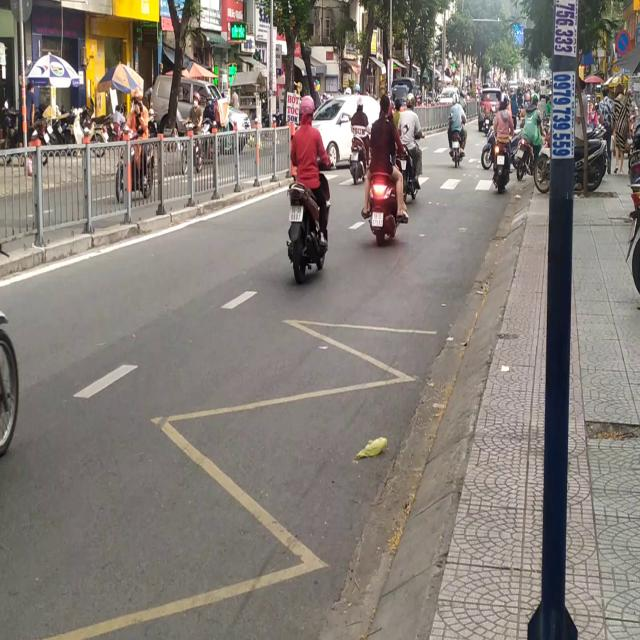bien_trang: (370, 210, 386, 228), (289, 204, 303, 222)
